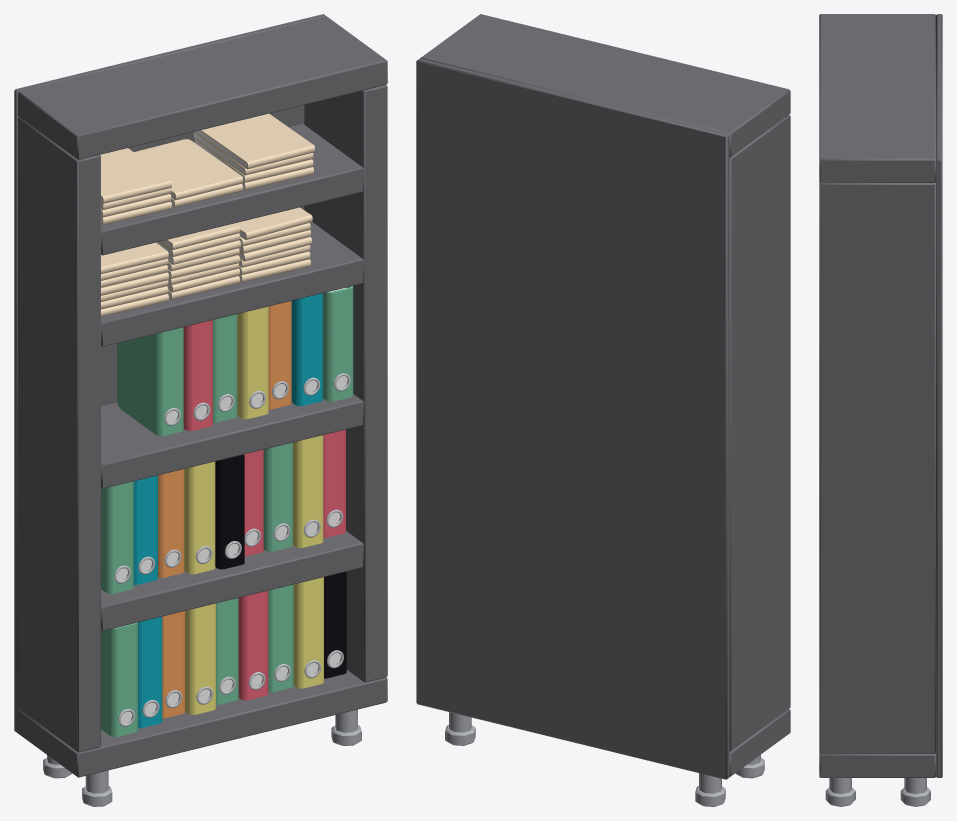
Rendered from Shelving_1.fbx.
The picture shows the model from 3 angles, left to right: view 1: azimuth 30°, elevation 25°; view 2: azimuth 150°, elevation 25°; view 3: azimuth 270°, elevation 25°; orthographic projection. The views are drawn at different scales.
Parts seen in each view (by area): view 1: Shelving_1; view 2: Shelving_1; view 3: Shelving_1.
Boxes of the visible parts, box(x1,y1,x2,y2) form: Shelving_1: box(14, 14, 387, 806); Shelving_1: box(416, 14, 790, 806); Shelving_1: box(819, 14, 942, 806).
Bounding box in the file's own units: 1.03 × 2.17 × 0.3699.
